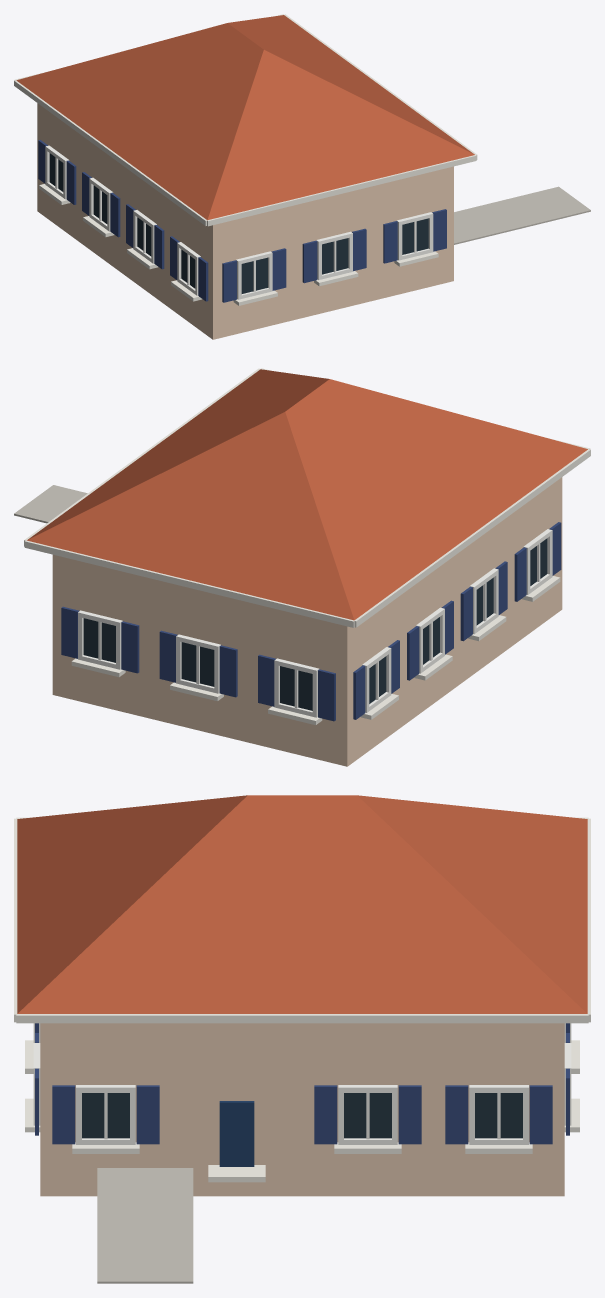
The picture shows the model from 3 angles, top to bottom: view 1: azimuth 30°, elevation 25°; view 2: azimuth 150°, elevation 25°; view 3: azimuth 270°, elevation 25°; orthographic projection. The views are drawn at different scales.
Parts seen in each view (by area): view 1: b2663; view 2: b2663; view 3: b2663.
Part boxes in pixels (box(x1,y1,x2,y2)): b2663: box(14, 14, 590, 339); b2663: box(14, 368, 590, 766); b2663: box(14, 795, 590, 1283).
Bounding box in the file's own units: 7401 × 3600 × 6011.
